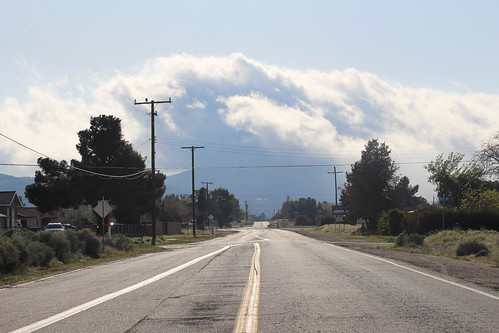road: (1, 225, 499, 332)
sky: (1, 1, 494, 157)
tree: (35, 114, 158, 231), (340, 146, 421, 228), (429, 153, 498, 223)
